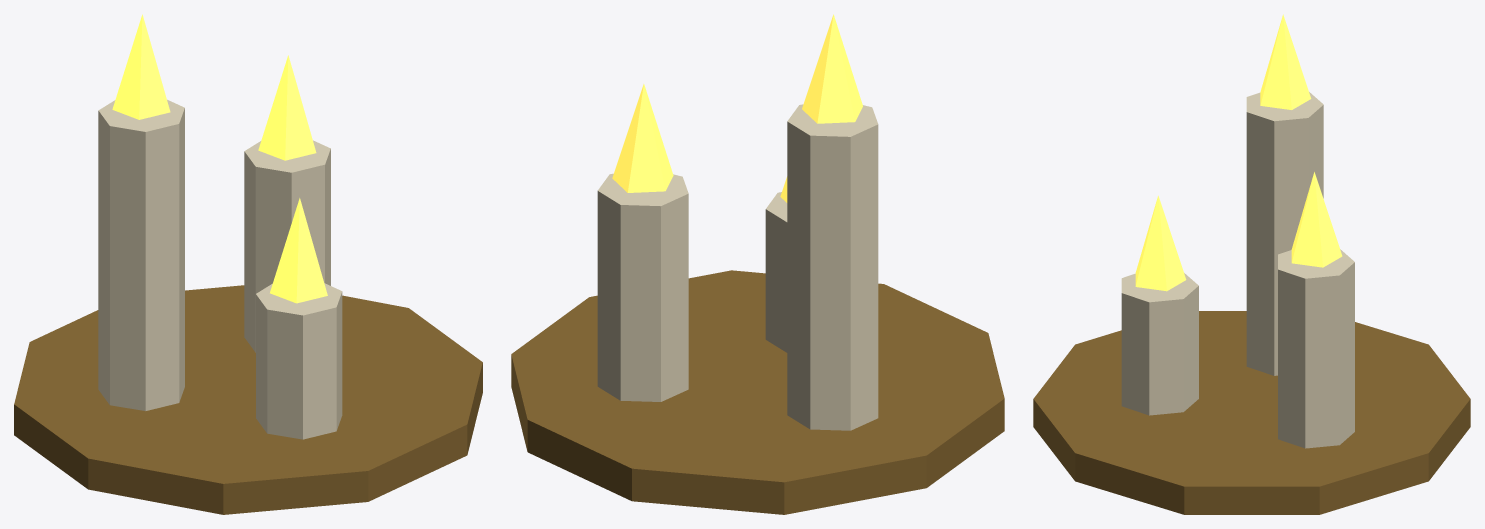
File: candle_2.glb
3 views of the same model, side by side, from view 1: azimuth 30°, elevation 25°; view 2: azimuth 150°, elevation 25°; view 3: azimuth 270°, elevation 25° (orthographic). The views are drawn at different scales.
Visible parts, largest first — view 1: Candle_2; view 2: Candle_2; view 3: Candle_2.
Boxes of the visible parts, bbox=[...] form: Candle_2: bbox=[14, 14, 482, 514]; Candle_2: bbox=[511, 14, 1004, 514]; Candle_2: bbox=[1033, 14, 1470, 514].
Size of the model in its own units: 0.2663 by 0.264 by 0.28.
